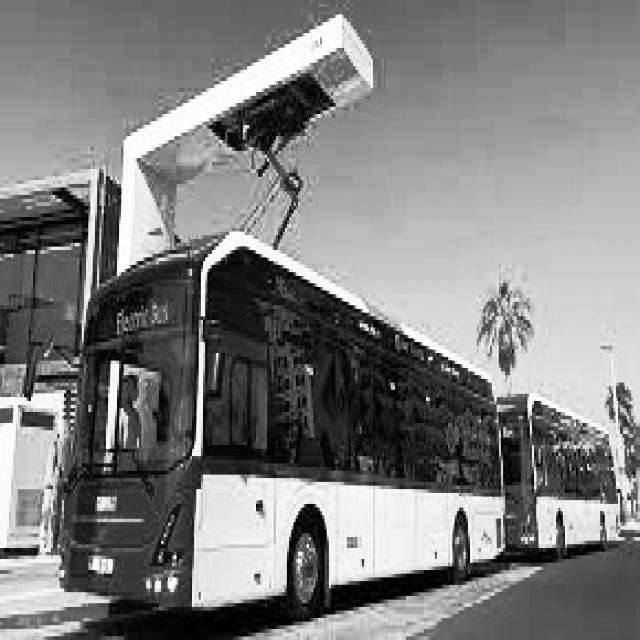Bus: (56, 229, 510, 624)
